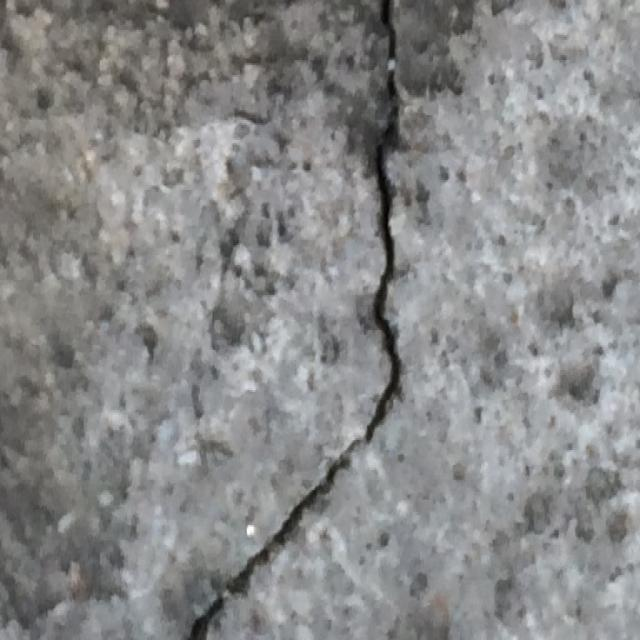Diagonal: (187, 380, 402, 640)
Longitudinal: (366, 0, 410, 379)
